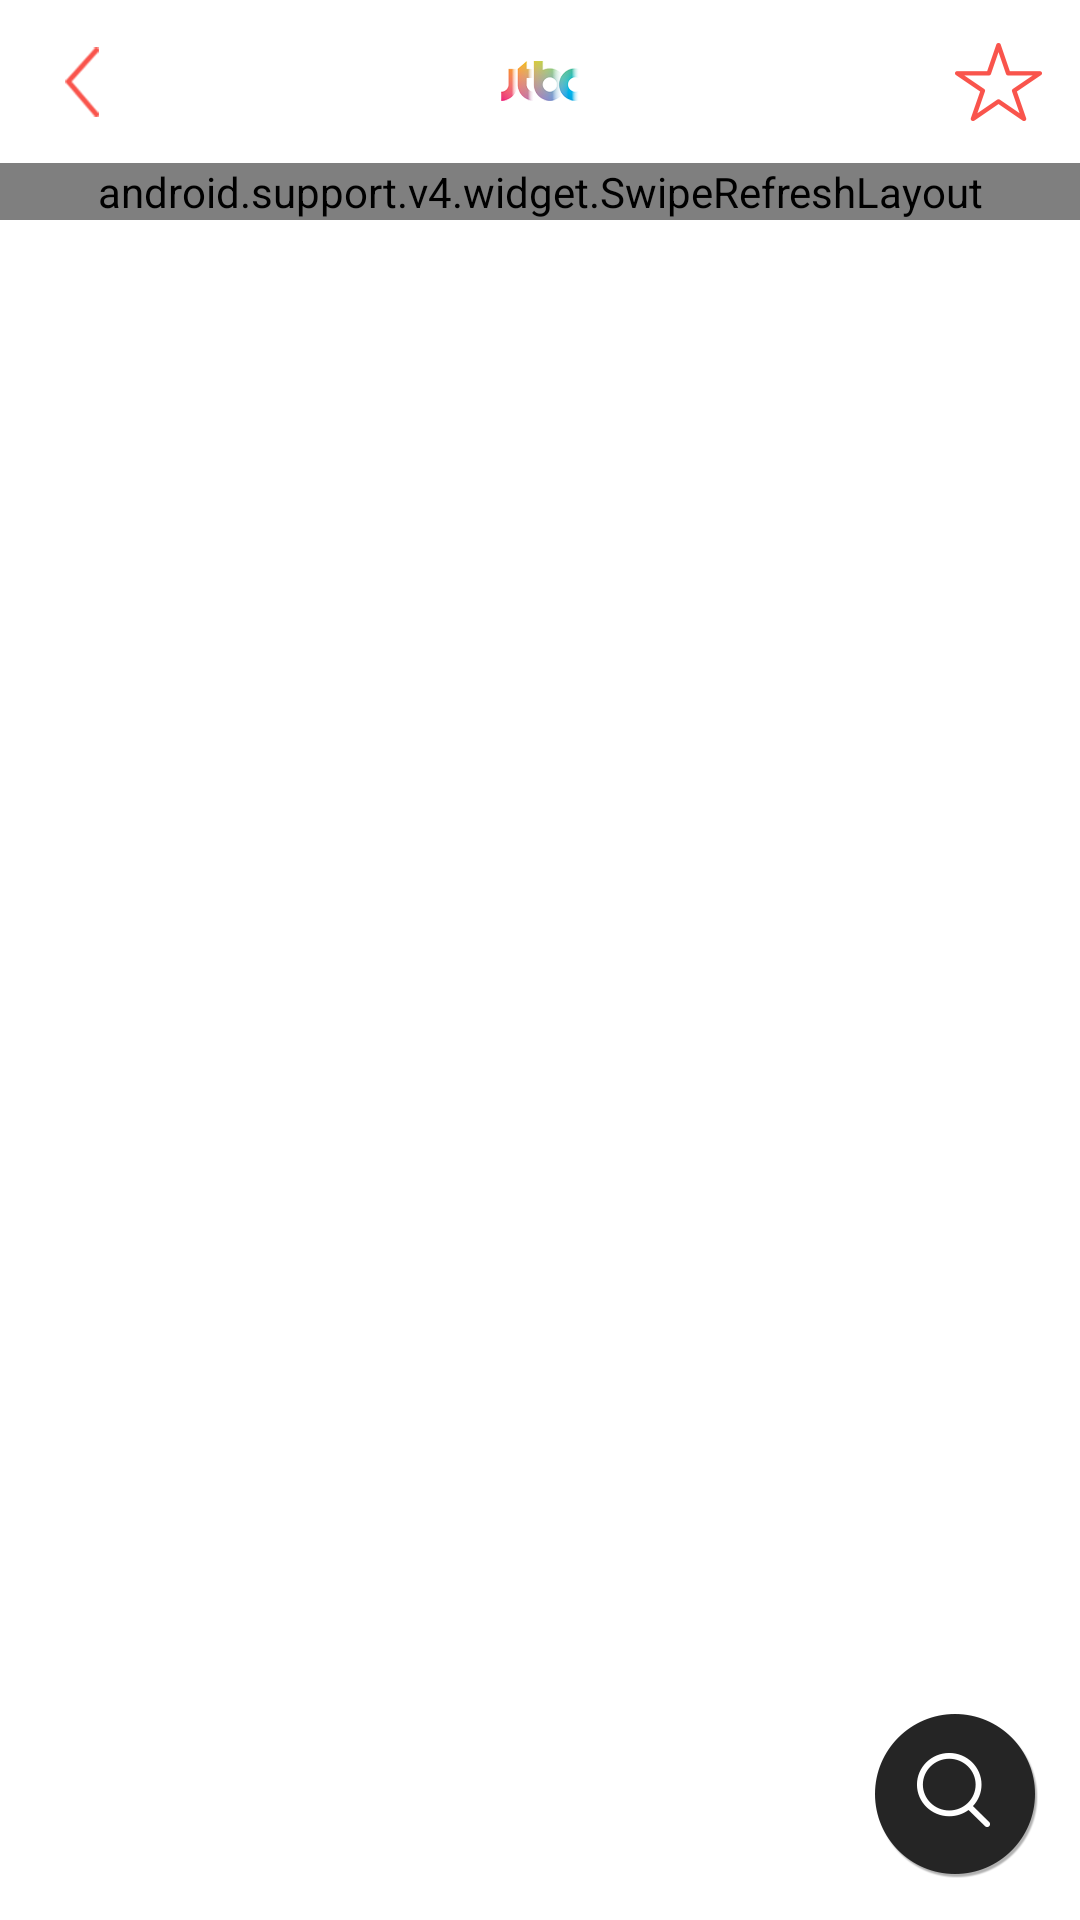

Icons on this 1080px×1920px Android screen, each with its box as (x1, y1, x2, y2):
back: (65, 47, 99, 117)
float search: (875, 1714, 1037, 1877)
star off: (955, 43, 1042, 121)
